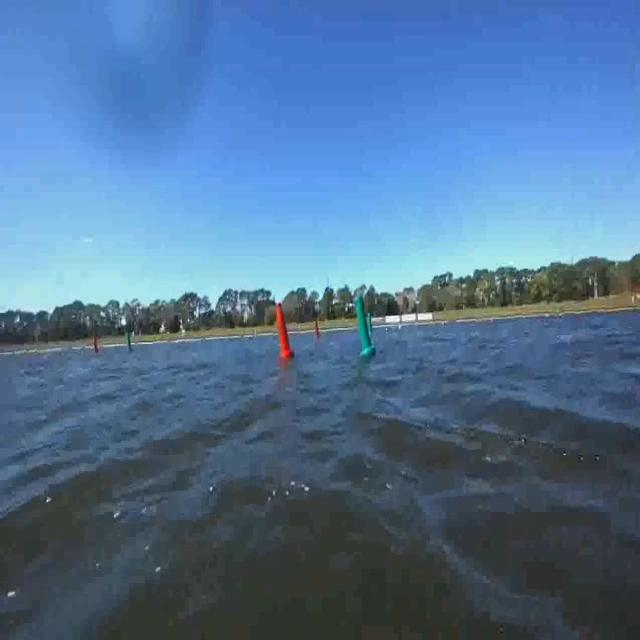green-column-buoy: (354, 295, 376, 356), (126, 329, 135, 354)
red-column-buoy: (274, 304, 295, 362), (92, 334, 102, 356), (314, 319, 321, 339)
